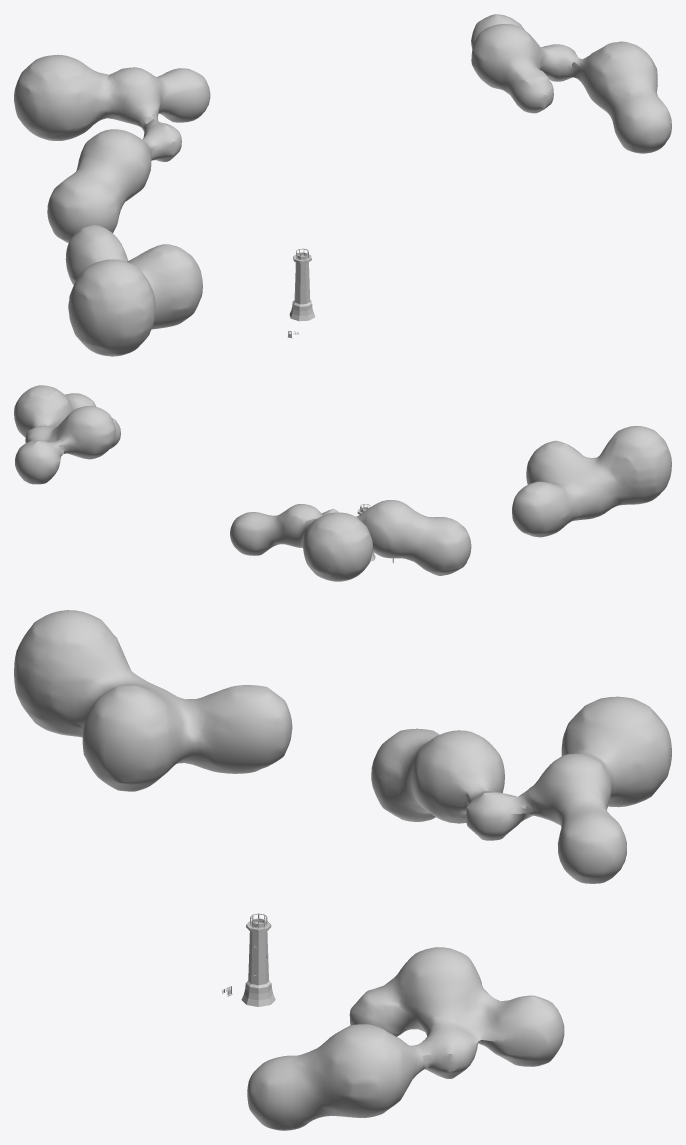
The model's file is Metal.obj.
The picture shows the model from 3 angles, top to bottom: view 1: azimuth 30°, elevation 25°; view 2: azimuth 150°, elevation 25°; view 3: azimuth 270°, elevation 25°; orthographic projection. The views are drawn at different scales.
Parts seen in each view (by area): view 1: Metal; view 2: Metal; view 3: Metal.
Boxes of the visible parts, x1=… form: Metal: x1=14, y1=14, x2=671, y2=356; Metal: x1=14, y1=385, x2=671, y2=581; Metal: x1=14, y1=610, x2=671, y2=1130.
Size of the model in its own units: 185 by 48.18 by 119.
